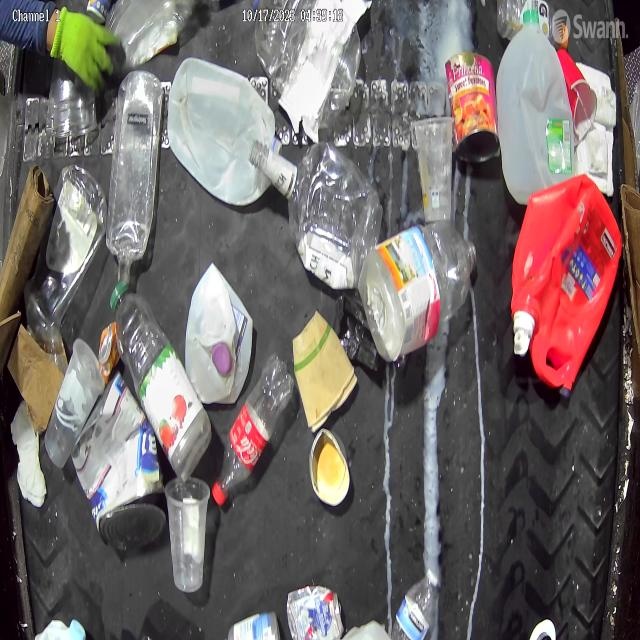can: (447, 54, 500, 161), (311, 426, 352, 509), (286, 583, 344, 640)
milk_jug: (169, 56, 278, 207), (496, 10, 572, 203), (185, 261, 254, 406)
non_white_jug: (510, 175, 622, 396)
plastic_bottle: (250, 138, 383, 290), (112, 287, 206, 478), (22, 162, 108, 364), (360, 220, 477, 360), (252, 0, 363, 127), (213, 351, 294, 508), (108, 67, 159, 290), (394, 573, 440, 640)
